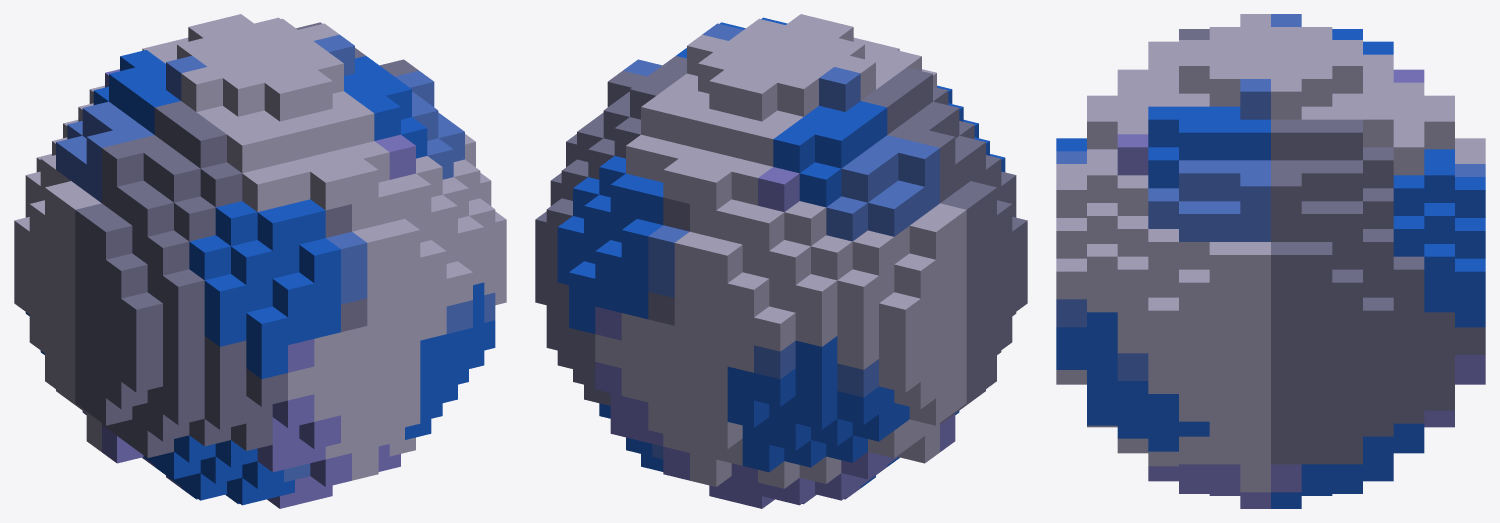
The model's file is soccer-ball.glb.
3 renders of one model, left to right at view 1: azimuth 30°, elevation 25°; view 2: azimuth 150°, elevation 25°; view 3: azimuth 270°, elevation 25°, orthographic.
Parts seen in each view (by area): view 1: prop; view 2: prop; view 3: prop.
Boxes of the visible parts, x1,y1,x2,y2 form: prop: (14,14,506,508); prop: (535,14,1027,508); prop: (1056,14,1485,508).
Size of the model in its own units: 14.93 by 16 by 14.93.
